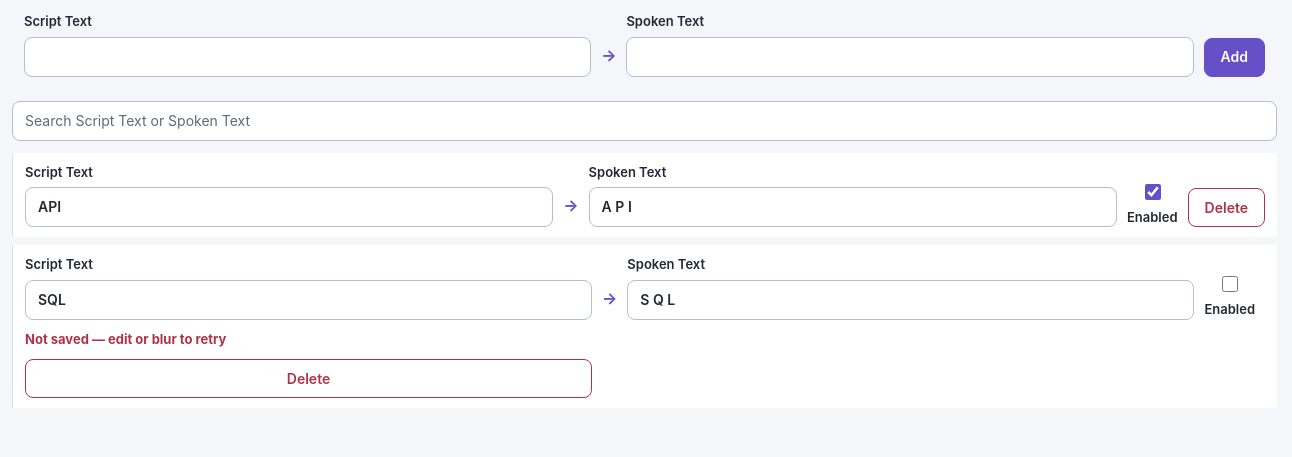
Test: LexiconEditor › searches both fields, rejects blanks and case-insensitive duplicates, and renders row errors
Expected: the text "Not saved — edit or blur to retry" is shown, [25, 330, 226, 346]
Type "S Q L" into the field named "Search lexicon" at (644, 120), box [12, 100, 1277, 140]
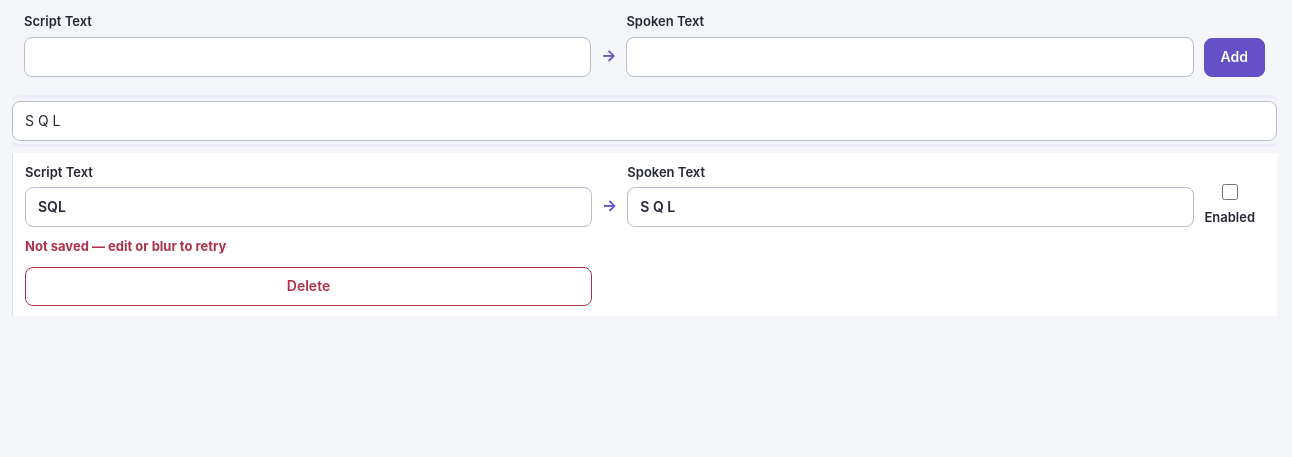
Expected: the element named "Lexicon entry SQL" is shown, [12, 152, 1277, 316]
Clear the field named "Search lexicon" at (644, 120), box [12, 100, 1277, 140]
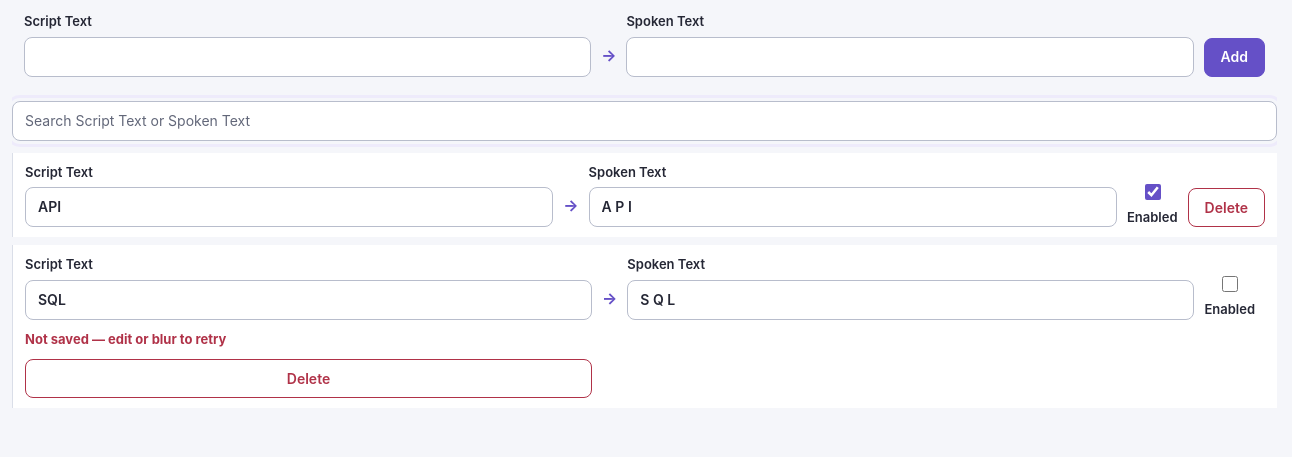
Click the button "Add" at (1234, 57), box [1204, 38, 1265, 76]
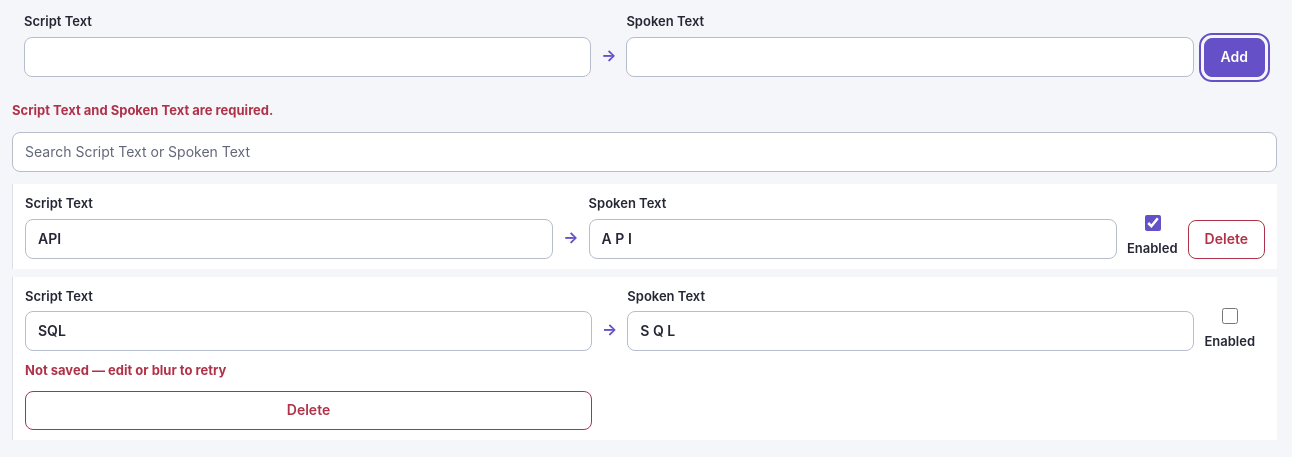
Expected: the text "Script Text and Spoken Text are required." is shown, [12, 102, 273, 118]
Type "api" into the 1st field labelled "Script Text" at (308, 56), box [24, 36, 591, 76]
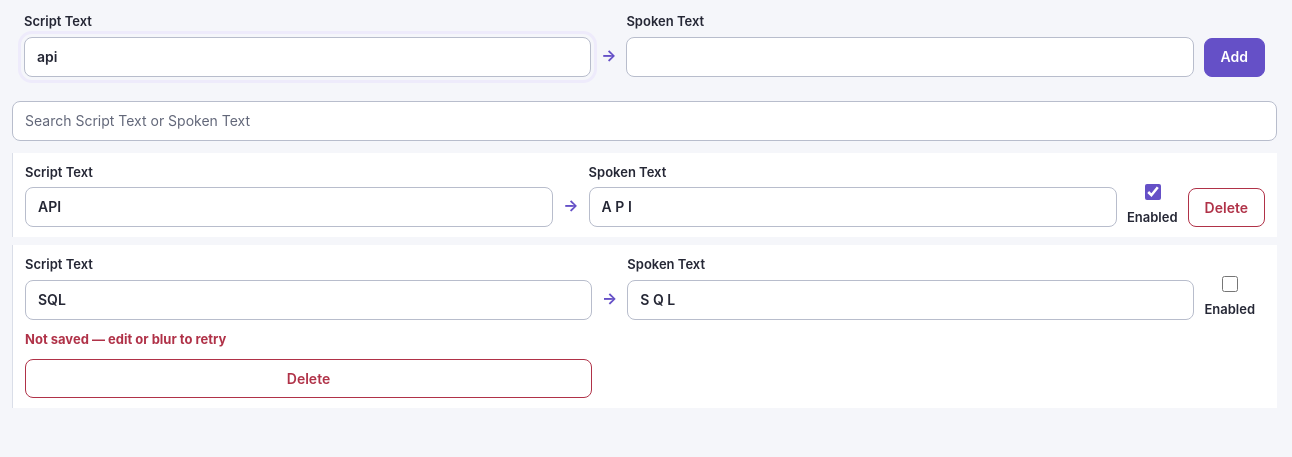
Type "duplicate" into the 1st field labelled "Spoken Text" at (910, 56), box [626, 36, 1194, 76]
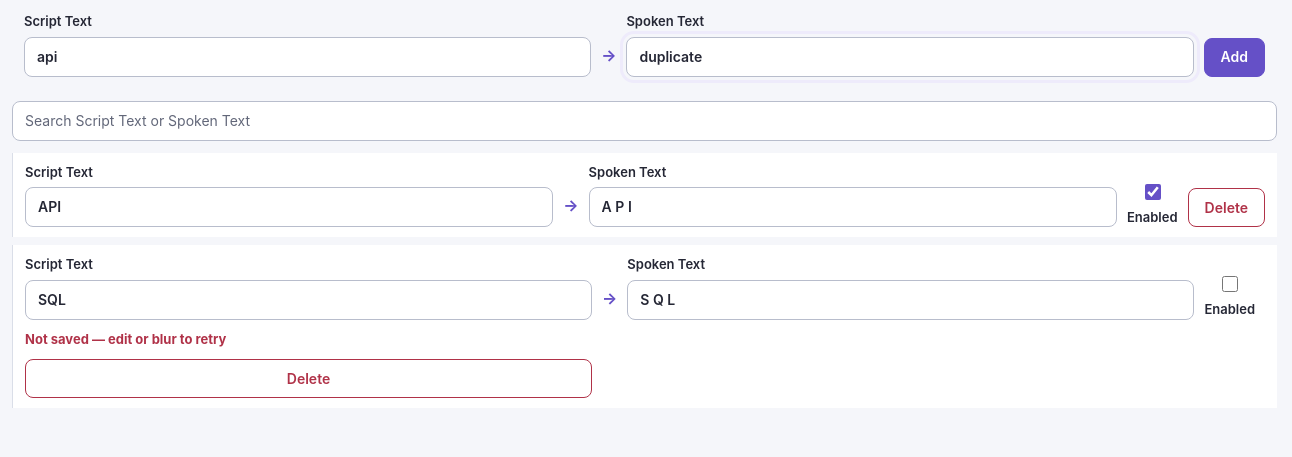
Click the button "Add" at (1234, 57), box [1204, 38, 1265, 76]
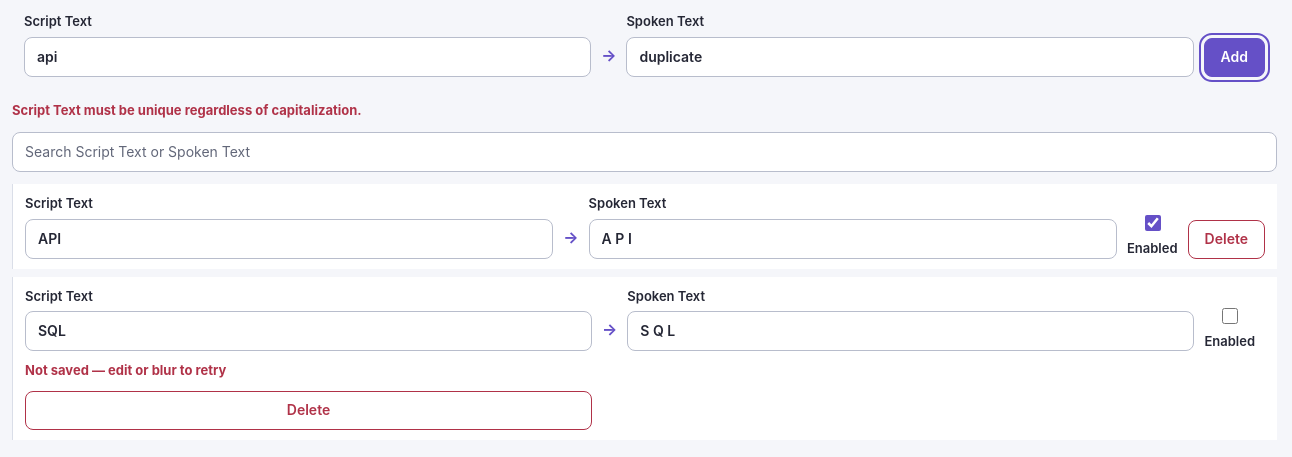
Expected: the text "Script Text must be unique regardless of capitalization." is shown, [12, 102, 362, 118]
